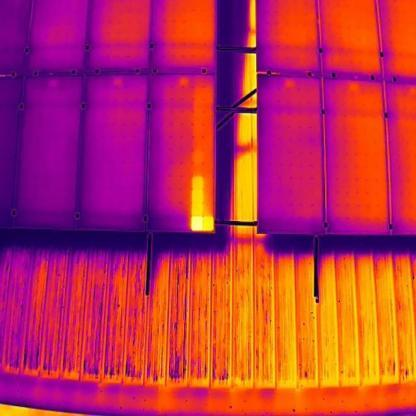anomaly: (188, 173, 216, 232)
